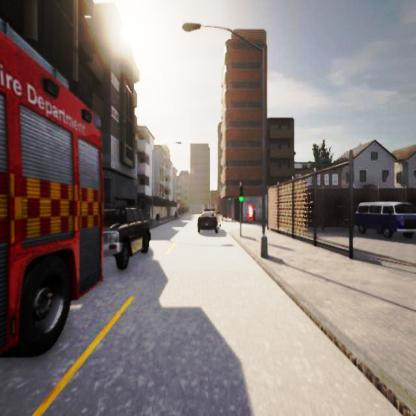vehicle: (0, 8, 108, 363), (354, 201, 416, 240), (107, 206, 150, 257), (198, 210, 219, 233)
